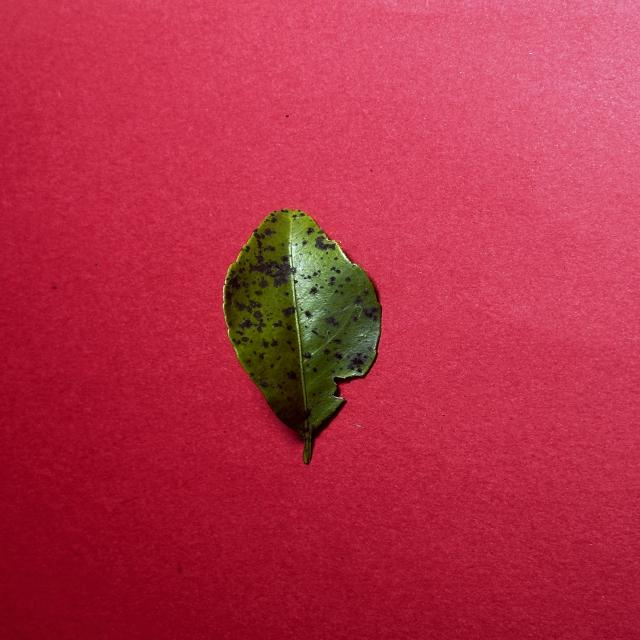sooty_mold: (224, 209, 381, 463)
